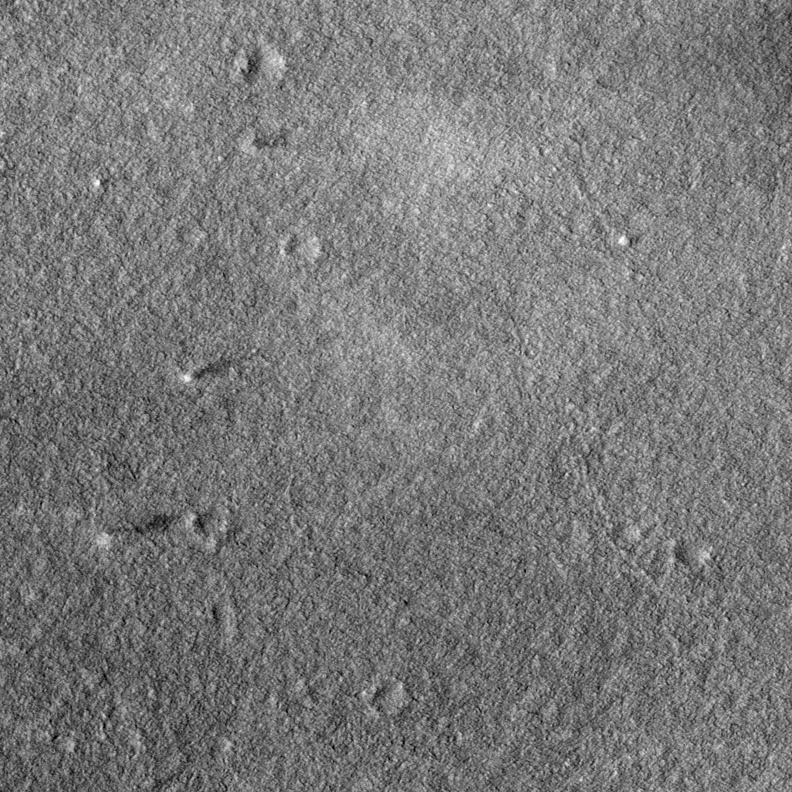dust_devil: (92, 513, 177, 551), (182, 355, 232, 385)
